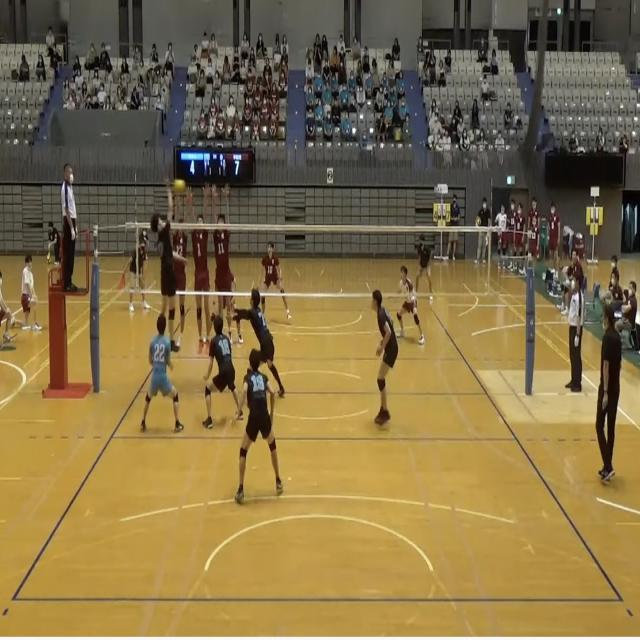spike: (150, 171, 194, 358)
